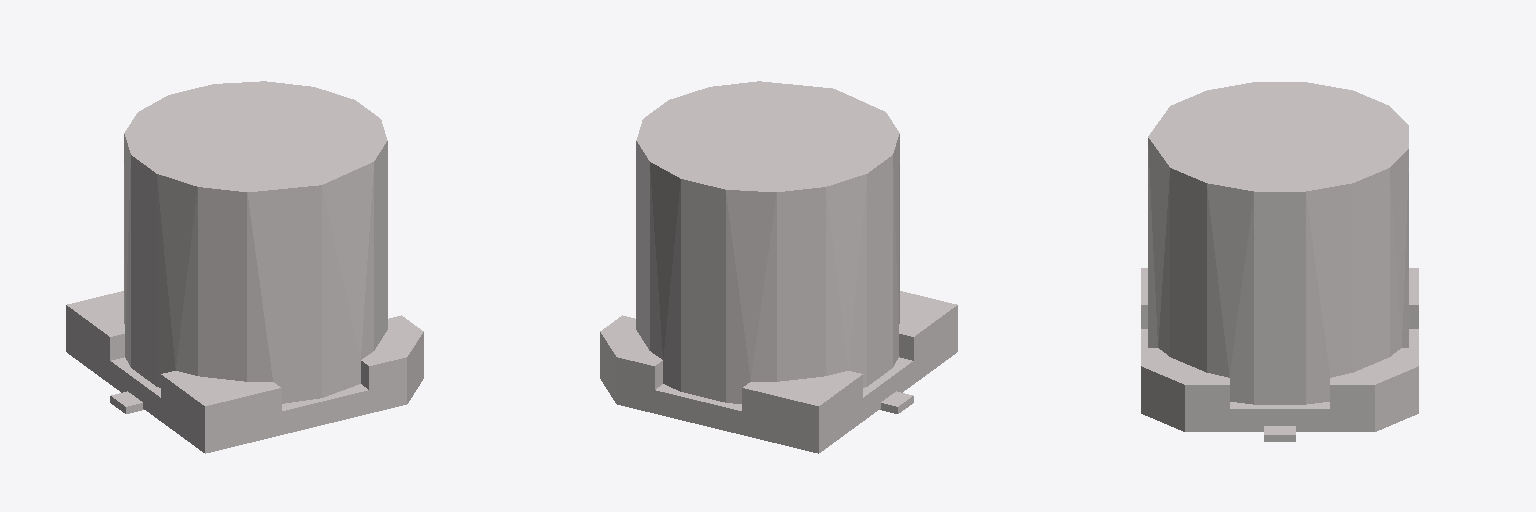
Rendered from primer.obj.
3 renders of one model, left to right at view 1: azimuth 30°, elevation 25°; view 2: azimuth 150°, elevation 25°; view 3: azimuth 270°, elevation 25°, orthographic.
Parts seen in each view (by area): view 1: Primer1; view 2: Primer1; view 3: Primer1.
Part boxes in pixels (bbox=[...]): Primer1: bbox=[66, 81, 423, 453]; Primer1: bbox=[600, 81, 957, 453]; Primer1: bbox=[1141, 82, 1418, 441].
Bounding box in the file's own units: 1.17 × 0.9662 × 1.02.